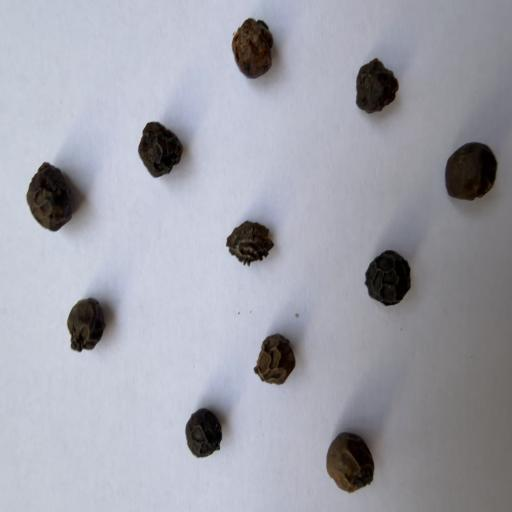Black_pepper: (421, 114, 512, 212), (54, 273, 118, 384), (345, 44, 410, 138), (318, 414, 386, 498), (358, 234, 427, 315), (12, 160, 88, 233), (172, 396, 238, 469), (223, 17, 284, 82), (248, 323, 304, 392), (136, 114, 187, 186)
papaya_seed: (218, 212, 279, 276)
